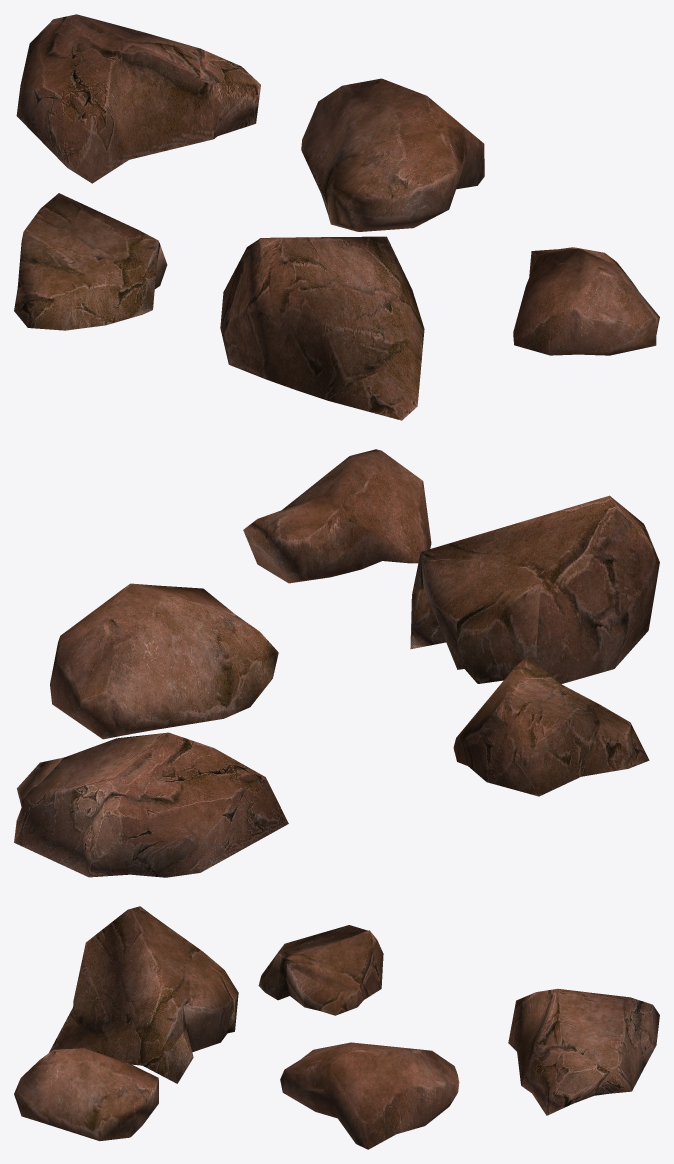
Rendered from Rock_Stone5_lod1.glb.
3 renders of one model, top to bottom at view 1: azimuth 30°, elevation 25°; view 2: azimuth 150°, elevation 25°; view 3: azimuth 270°, elevation 25°, orthographic. The views are drawn at different scales.
Parts seen in each view (by area): view 1: xiutz_stone5_lod1; view 2: xiutz_stone5_lod1; view 3: xiutz_stone5_lod1.
Part boxes in pixels (box(x1,y1,x2,y2)): xiutz_stone5_lod1: box(14, 14, 659, 420); xiutz_stone5_lod1: box(14, 449, 659, 877); xiutz_stone5_lod1: box(14, 906, 659, 1149).
Bounding box in the file's own units: 6.87 × 2.06 × 10.1.
Materials: 1 (1 with a texture image).
